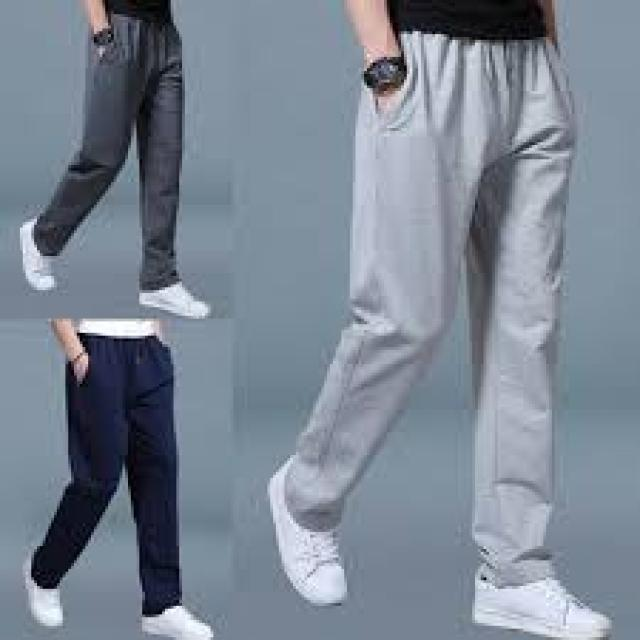pants: (280, 31, 585, 583), (32, 10, 190, 289), (27, 332, 181, 608)
